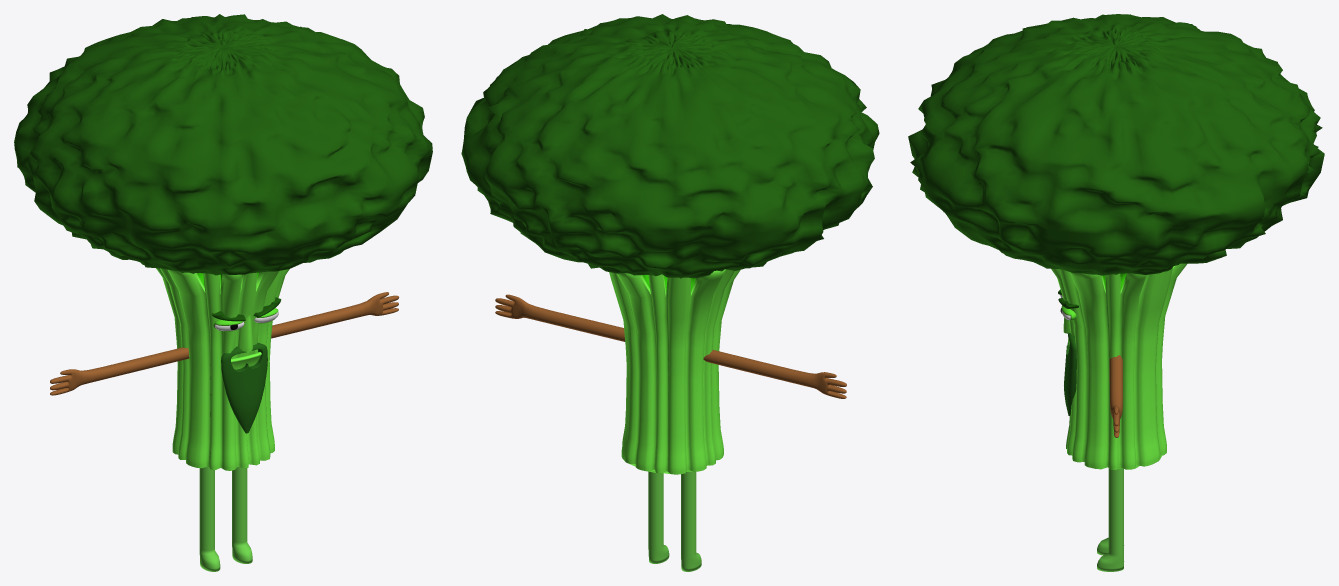
Rendered from Broccoli.fbx.
The picture shows the model from 3 angles, left to right: view 1: azimuth 30°, elevation 25°; view 2: azimuth 150°, elevation 25°; view 3: azimuth 270°, elevation 25°; orthographic projection.
Visible parts, largest first — view 1: Broccoli; view 2: Broccoli; view 3: Broccoli.
Boxes of the visible parts, x1,y1,x2,y2 form: Broccoli: (14,14,432,571); Broccoli: (461,14,879,571); Broccoli: (908,14,1324,571).
Bounding box in the file's own units: 882 × 1215 × 890.
